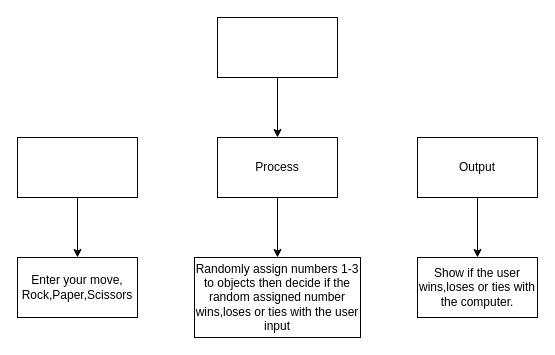
Image size: 555x355. Some labels were removed from this diagram. The shapes that lost their labels are listed below. From the top down, each one's centre as x and y in pixels, then its label:
the point at 277,47: Rock,Paper,Scissors
the point at 77,167: Input
